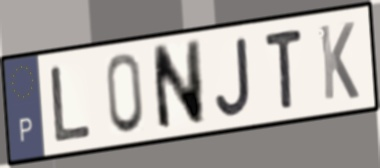0: (104, 51, 146, 136)
J: (213, 34, 253, 119)
K: (317, 19, 362, 103)
L: (49, 62, 94, 145)
N: (149, 37, 207, 135)
T: (262, 25, 305, 112)
